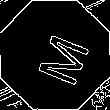M_W: (23, 24, 87, 86)
